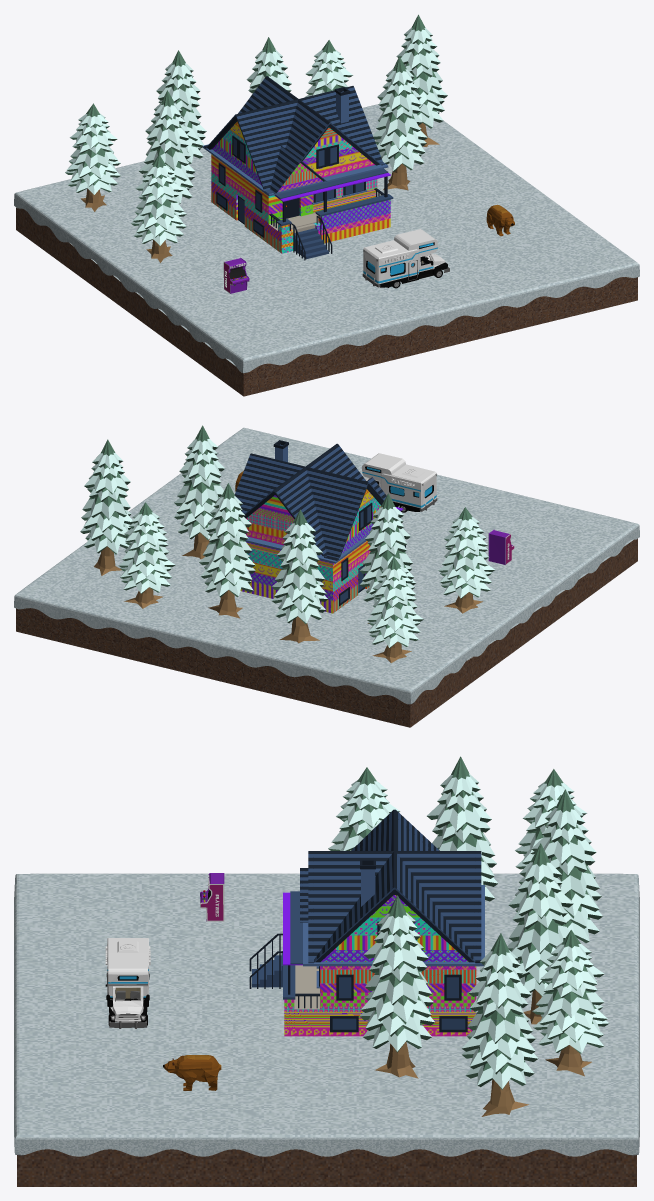
The picture shows the model from 3 angles, top to bottom: view 1: azimuth 30°, elevation 25°; view 2: azimuth 150°, elevation 25°; view 3: azimuth 270°, elevation 25°; orthographic projection. The views are drawn at different scales.
Parts seen in each view (by area): view 1: Cube.003, Cube.676, VEHICLES_CAMPER, OBJRANDOM_ARCADE, ANIMAL_OSO; view 2: Cube.003, Cube.676, VEHICLES_CAMPER, OBJRANDOM_ARCADE; view 3: Cube.003, Cube.676, VEHICLES_CAMPER, ANIMAL_OSO, OBJRANDOM_ARCADE.
Boxes of the visible parts, left/top/right/bottom form: Cube.003: left=14, top=14, right=639, bottom=396; Cube.676: left=202, top=76, right=393, bottom=260; VEHICLES_CAMPER: left=362, top=229, right=449, bottom=288; OBJRANDOM_ARCADE: left=223, top=257, right=249, bottom=293; ANIMAL_OSO: left=486, top=204, right=514, bottom=236; Cube.003: left=14, top=425, right=639, bottom=727; Cube.676: left=234, top=440, right=405, bottom=613; VEHICLES_CAMPER: left=362, top=453, right=437, bottom=512; OBJRANDOM_ARCADE: left=488, top=529, right=514, bottom=564; Cube.003: left=14, top=756, right=639, bottom=1186; Cube.676: left=249, top=809, right=484, bottom=1036; VEHICLES_CAMPER: left=105, top=938, right=150, bottom=1028; ANIMAL_OSO: left=163, top=1055, right=221, bottom=1090; OBJRANDOM_ARCADE: left=200, top=873, right=224, bottom=921.
Size of the model in its own units: 4040 by 1692 by 4040.
40 materials, 7 textured.
